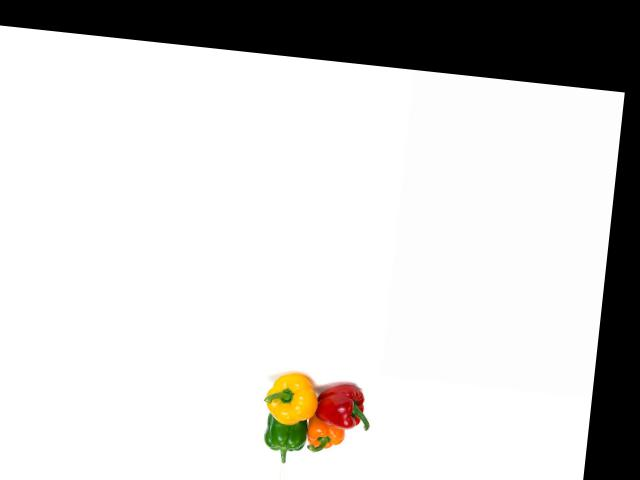bell_pepper: (258, 367, 323, 427)
